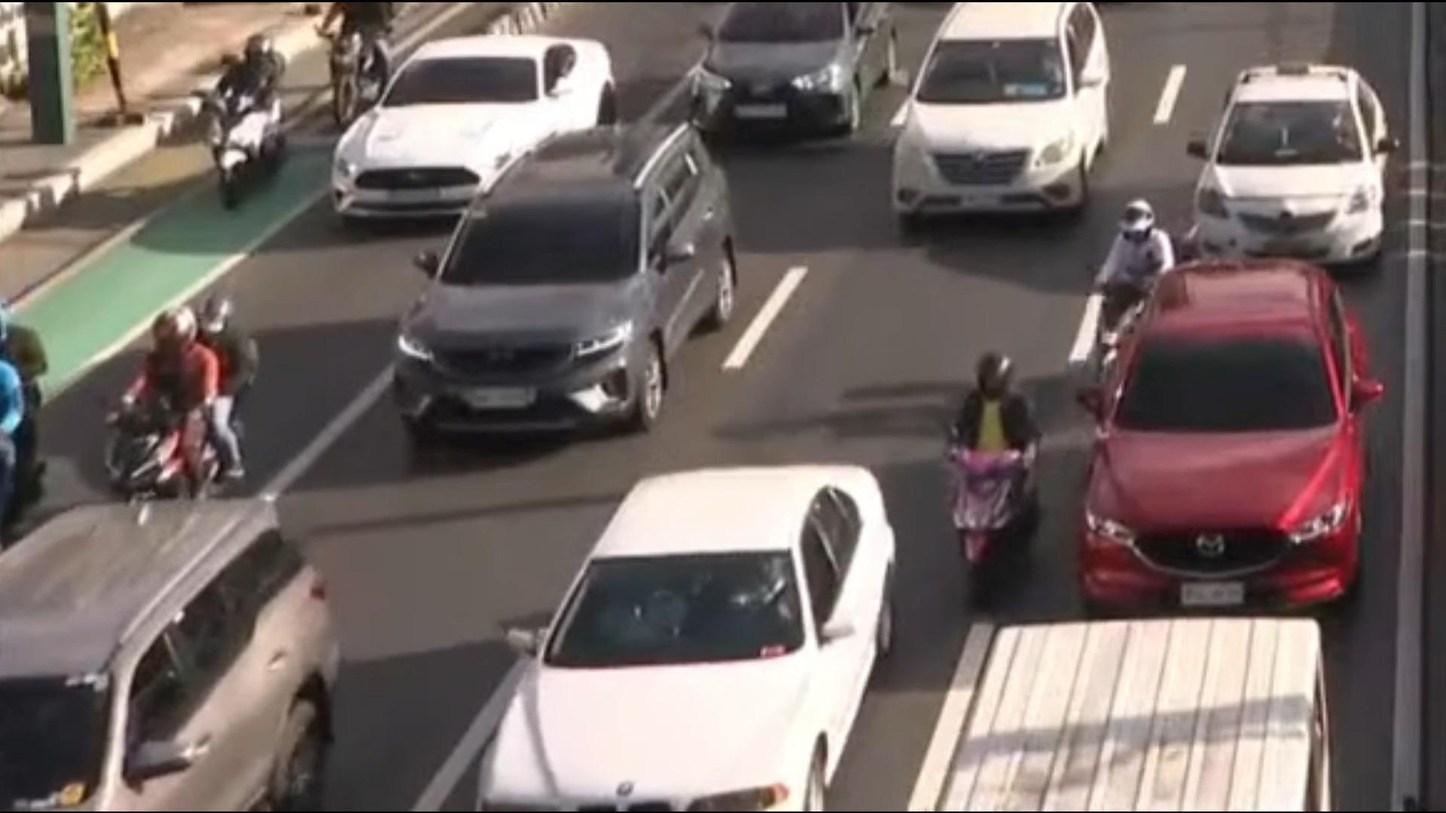Motorcycle: (97, 294, 267, 502), (934, 346, 1045, 604), (1084, 194, 1172, 411), (197, 35, 292, 201)
SUV: (393, 119, 739, 433), (0, 496, 336, 813), (1091, 262, 1359, 614), (885, 2, 1116, 220)
Sedan: (471, 465, 896, 813), (335, 37, 614, 220), (1190, 61, 1389, 262), (675, 0, 905, 143)
